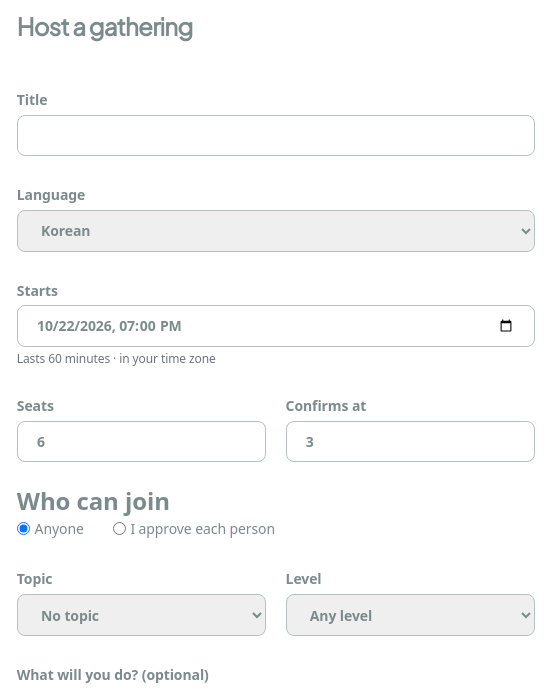
Scenario: clamps quorum when capacity drops below it
Replace the text in the number field with test id "gf-quorum" with "5" at [410, 442], box [286, 421, 535, 462]
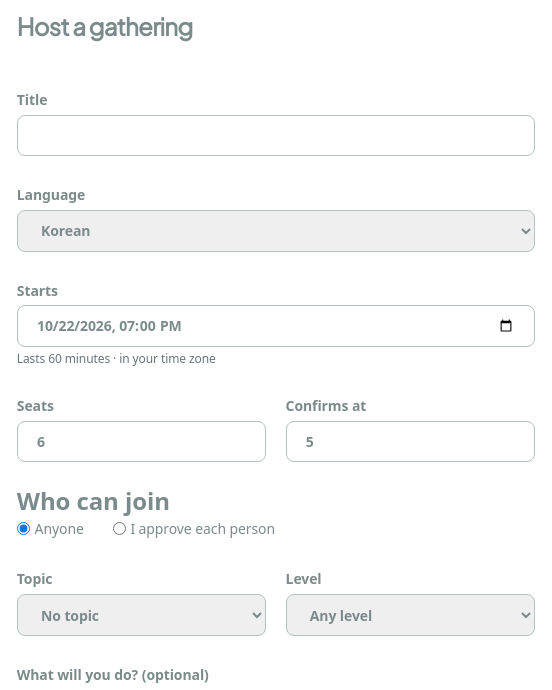
Replace the text in the number field with test id "gf-capacity" with "4" at [142, 442], box [17, 421, 266, 462]
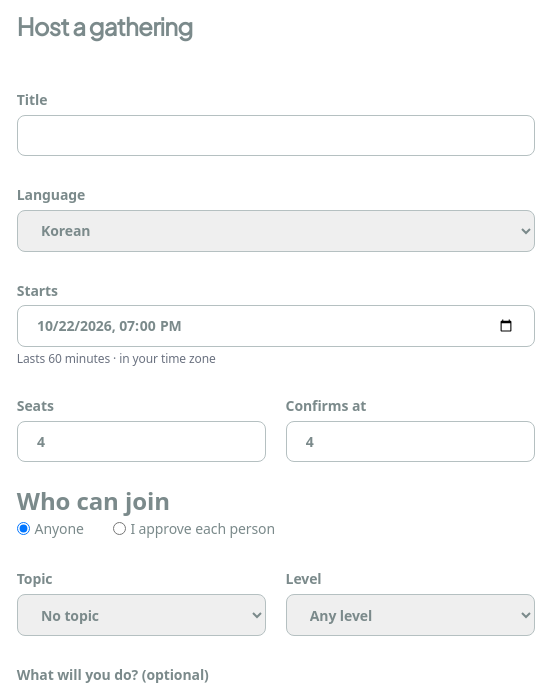
Check: the number field with test id "gf-quorum" holds "4", box [286, 421, 535, 462]
